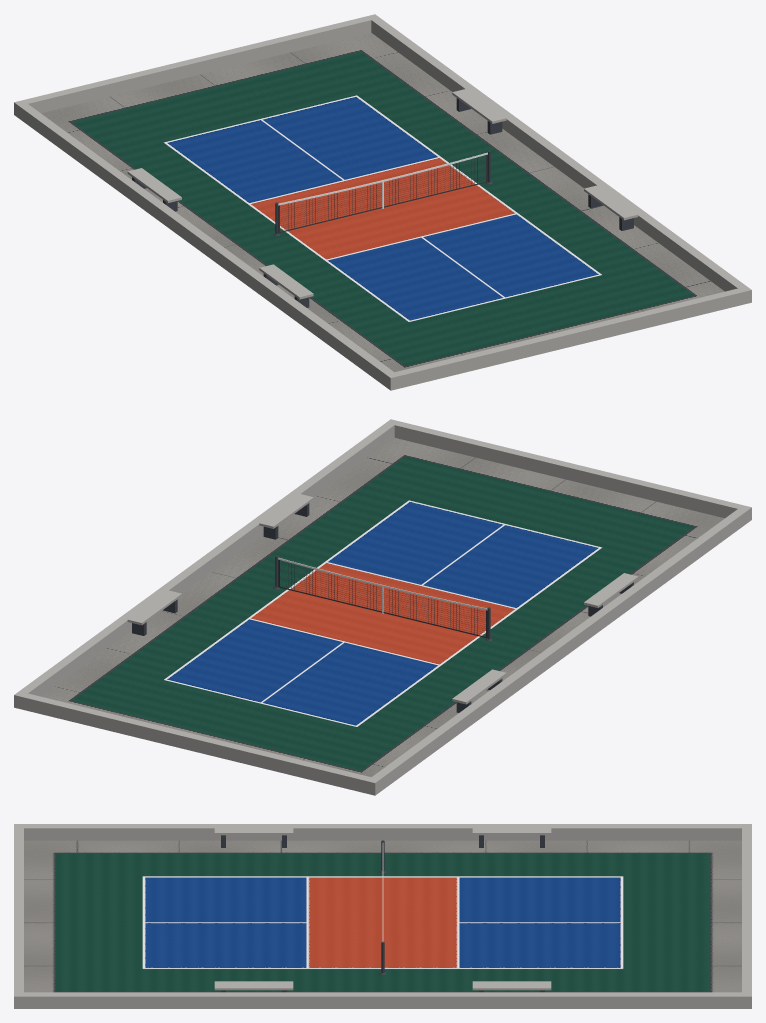
The model's file is court.glb.
3 renders of one model, top to bottom at view 1: azimuth 30°, elevation 25°; view 2: azimuth 150°, elevation 25°; view 3: azimuth 270°, elevation 25°, orthographic. The views are drawn at different scales.
Visible parts, largest first — view 1: Pickleball_Court_20x44; view 2: Pickleball_Court_20x44; view 3: Pickleball_Court_20x44.
Part boxes in pixels (box(x1,y1,x2,y2)): Pickleball_Court_20x44: box(14, 14, 751, 390); Pickleball_Court_20x44: box(14, 419, 751, 795); Pickleball_Court_20x44: box(14, 824, 751, 1008).
Bounding box in the file's own units: 11.4 × 0.9544 × 20.6.
Materials: 5 (1 with a texture image).
